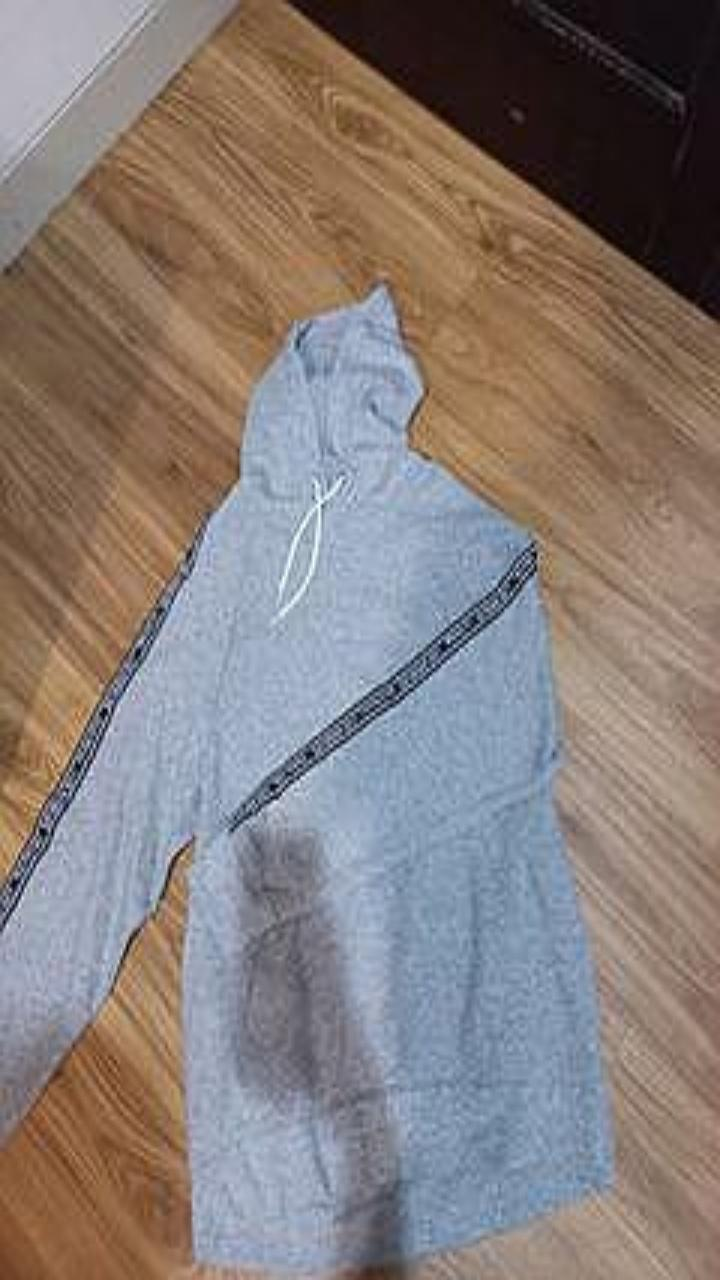Hoodie: (0, 282, 612, 1269)
